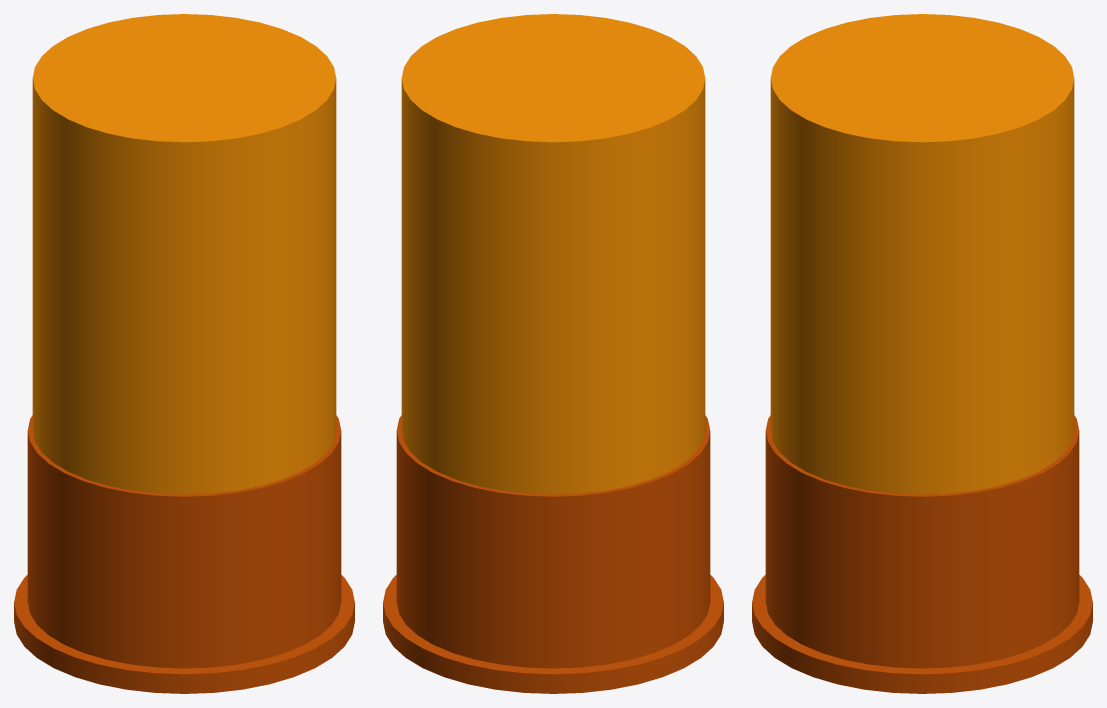
File: Bullet2.fbx
3 renders of one model, left to right at view 1: azimuth 30°, elevation 25°; view 2: azimuth 150°, elevation 25°; view 3: azimuth 270°, elevation 25°, orthographic.
Visible parts, largest first — view 1: Cylinder; view 2: Cylinder; view 3: Cylinder.
Part boxes in pixels (box(x1,y1,x2,y2)): Cylinder: box(14, 14, 354, 693); Cylinder: box(383, 14, 723, 693); Cylinder: box(752, 14, 1092, 693).
Size of the model in its own units: 172 by 302 by 172.
